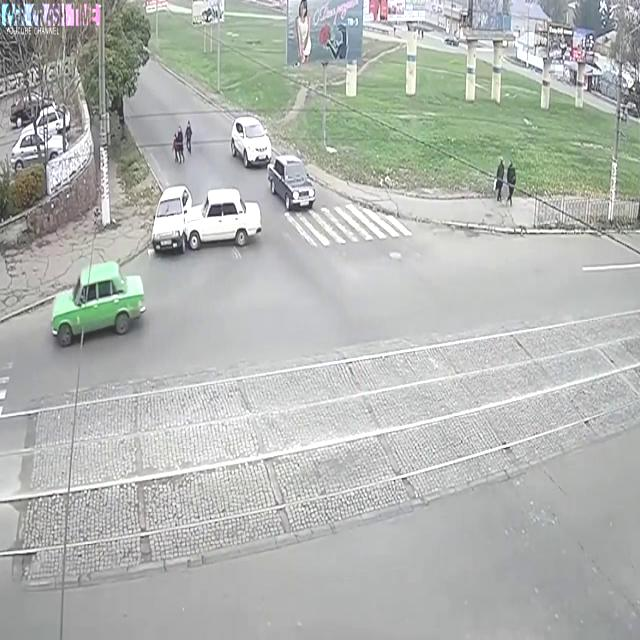accident: (150, 183, 262, 261)
non-accident: (230, 116, 316, 210), (9, 94, 71, 176)
